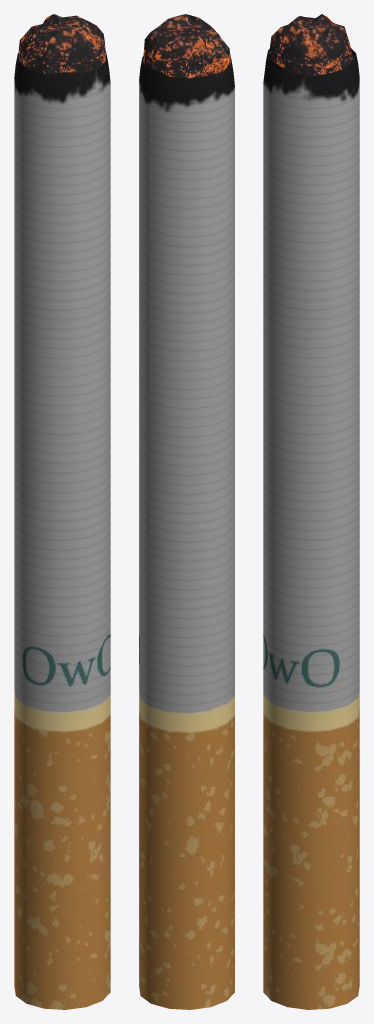
The picture shows the model from 3 angles, left to right: view 1: azimuth 30°, elevation 25°; view 2: azimuth 210°, elevation 25°; view 3: azimuth 330°, elevation 25°; orthographic projection.
Visible parts, largest first — view 1: Ciggy; view 2: Ciggy; view 3: Ciggy.
Part boxes in pixels (x1,y1,x2,y2): Ciggy: (14,14,110,1009); Ciggy: (139,14,234,1009); Ciggy: (263,14,359,1009).
Bounding box in the file's own units: 18.51 × 208 × 18.51.
